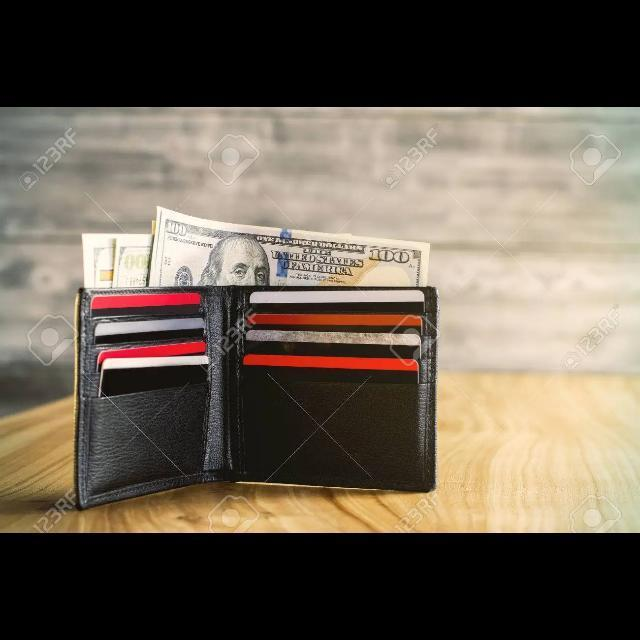wallet: (60, 196, 484, 532)
